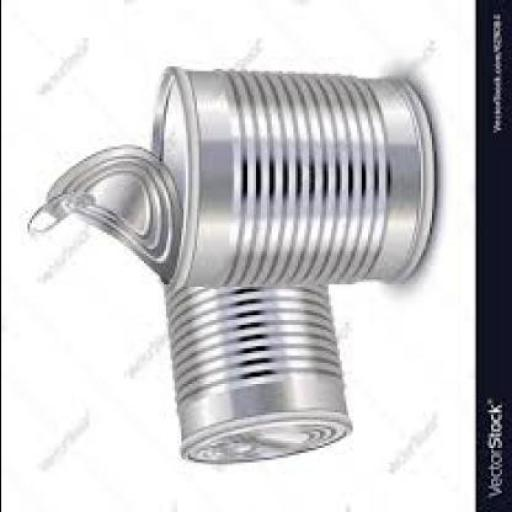metal: (29, 69, 435, 292), (150, 76, 435, 290), (156, 287, 348, 466), (26, 146, 172, 287), (22, 185, 95, 237)
